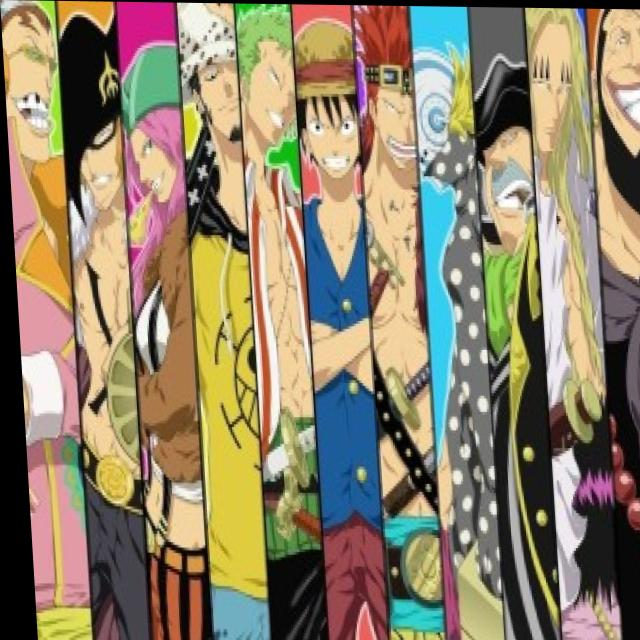Luffy: (291, 12, 363, 183)
Zoro: (233, 11, 299, 145)
